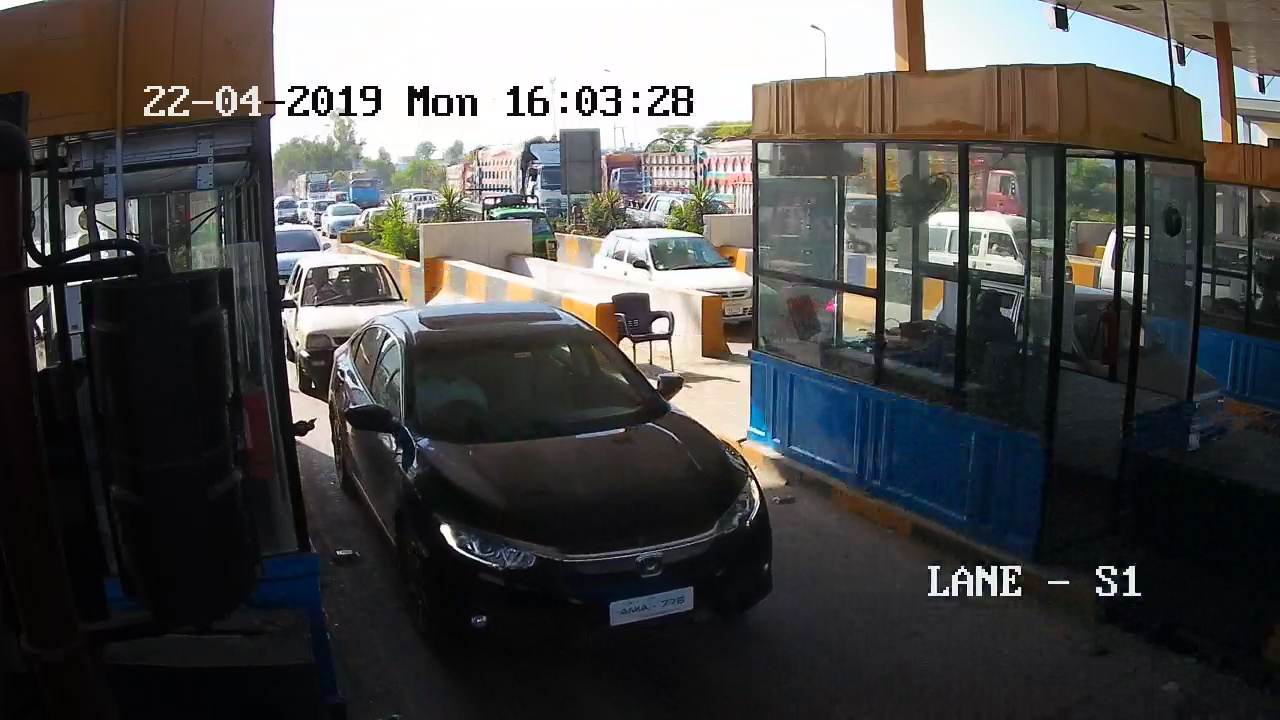Number Plate (Car): (609, 591, 692, 621)
